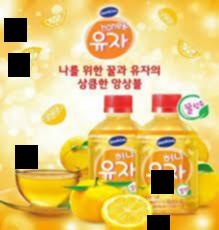honeyyuja: (143, 94, 197, 216), (89, 91, 137, 180)
